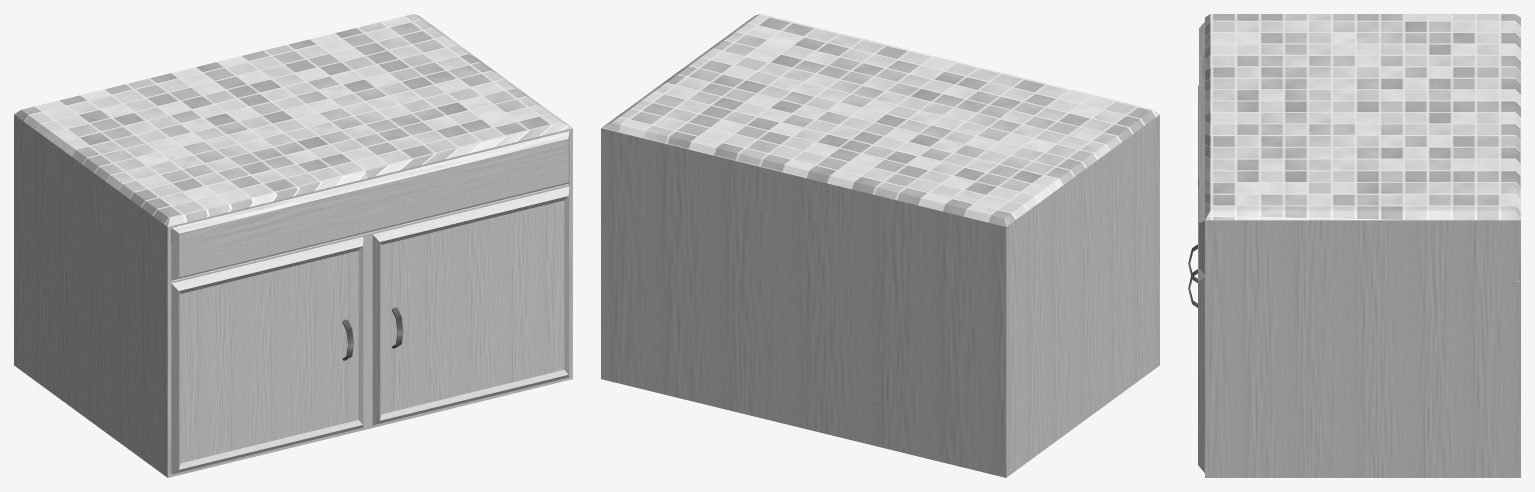
The model's file is Open_Kitchencounter_A.FBX.
The picture shows the model from 3 angles, left to right: view 1: azimuth 30°, elevation 25°; view 2: azimuth 150°, elevation 25°; view 3: azimuth 270°, elevation 25°; orthographic projection. The views are drawn at different scales.
Parts seen in each view (by area): view 1: Open_Counters, Door_ R_2, Door_ R_003, Drawer; view 2: Open_Counters; view 3: Open_Counters, Door_ R_2, Drawer.
Part boxes in pixels (x1,y1,x2,y2): Open_Counters: (14, 14, 572, 477); Door_ R_2: (372, 186, 569, 425); Door_ R_003: (171, 237, 363, 474); Drawer: (171, 131, 569, 280); Open_Counters: (601, 14, 1159, 477); Open_Counters: (1205, 14, 1520, 477); Door_ R_2: (1188, 186, 1204, 472); Drawer: (1199, 22, 1204, 274).
Bounding box in the file's own units: 228 × 138 × 158.
